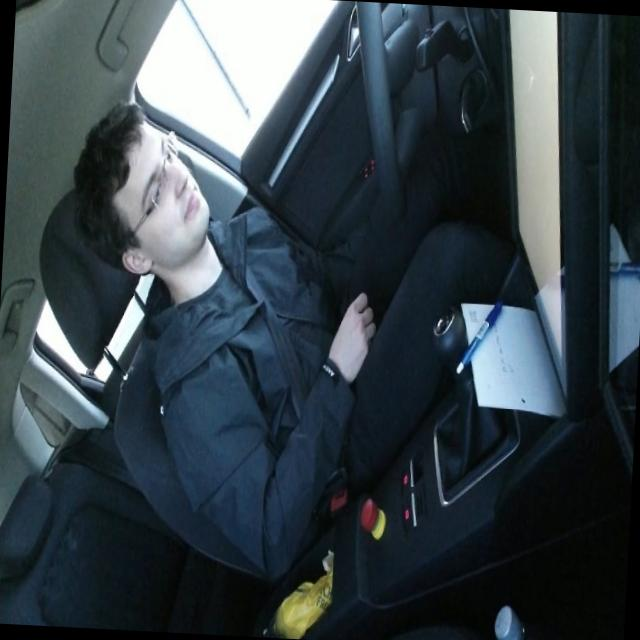pen: (454, 296, 504, 376)
